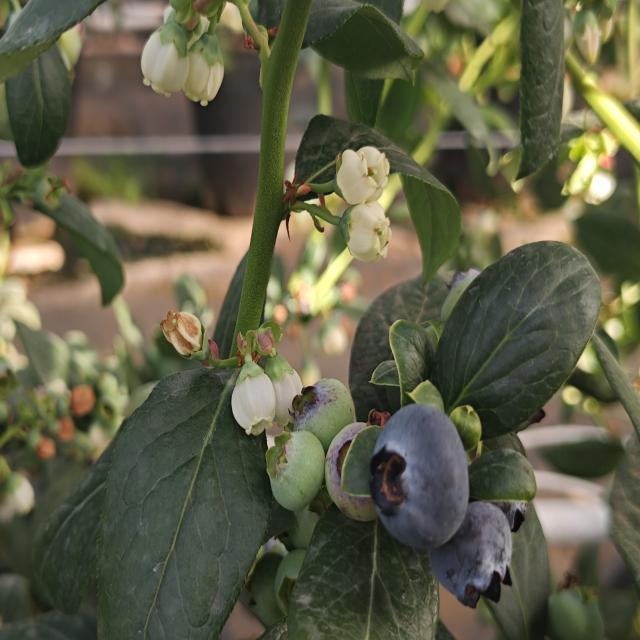ripe: (353, 392, 470, 555), (448, 489, 508, 602)
